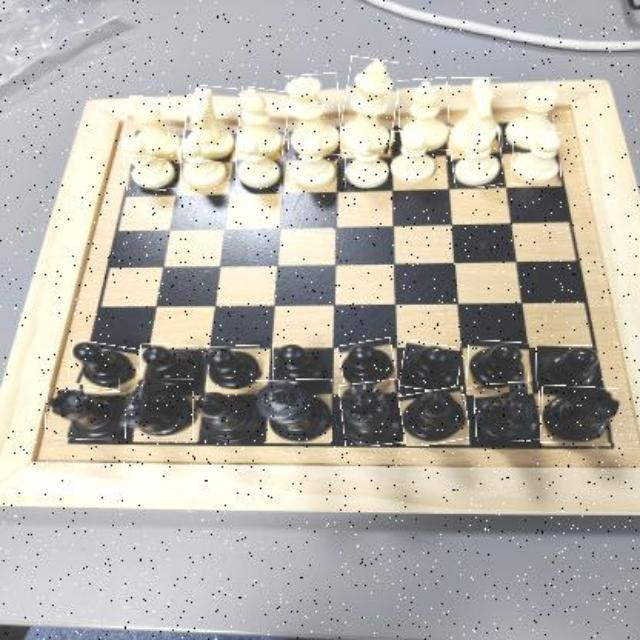black-bishop: (401, 388, 468, 446), (192, 391, 261, 443)
black-king: (256, 380, 334, 443)
black-knight: (119, 379, 195, 437), (475, 382, 541, 442)
black-pawn: (70, 342, 140, 389), (467, 341, 529, 391), (536, 345, 599, 392), (400, 343, 460, 392), (340, 339, 396, 388), (140, 345, 200, 389), (206, 346, 261, 390), (273, 344, 329, 385)
black-queen: (340, 380, 403, 446)
black-rook: (542, 386, 620, 444), (46, 389, 126, 441)
white-bishop: (399, 78, 451, 151), (235, 88, 288, 158)
white-king: (342, 57, 398, 153)
white-knight: (184, 86, 239, 162), (451, 77, 503, 149)
white-pawn: (451, 131, 503, 187), (124, 139, 176, 191), (512, 131, 562, 185), (237, 139, 283, 191), (391, 132, 437, 184), (292, 137, 338, 187), (345, 137, 389, 189), (181, 140, 227, 189)
white-queen: (286, 73, 341, 156)
white-rook: (502, 85, 566, 149), (123, 98, 186, 160)
